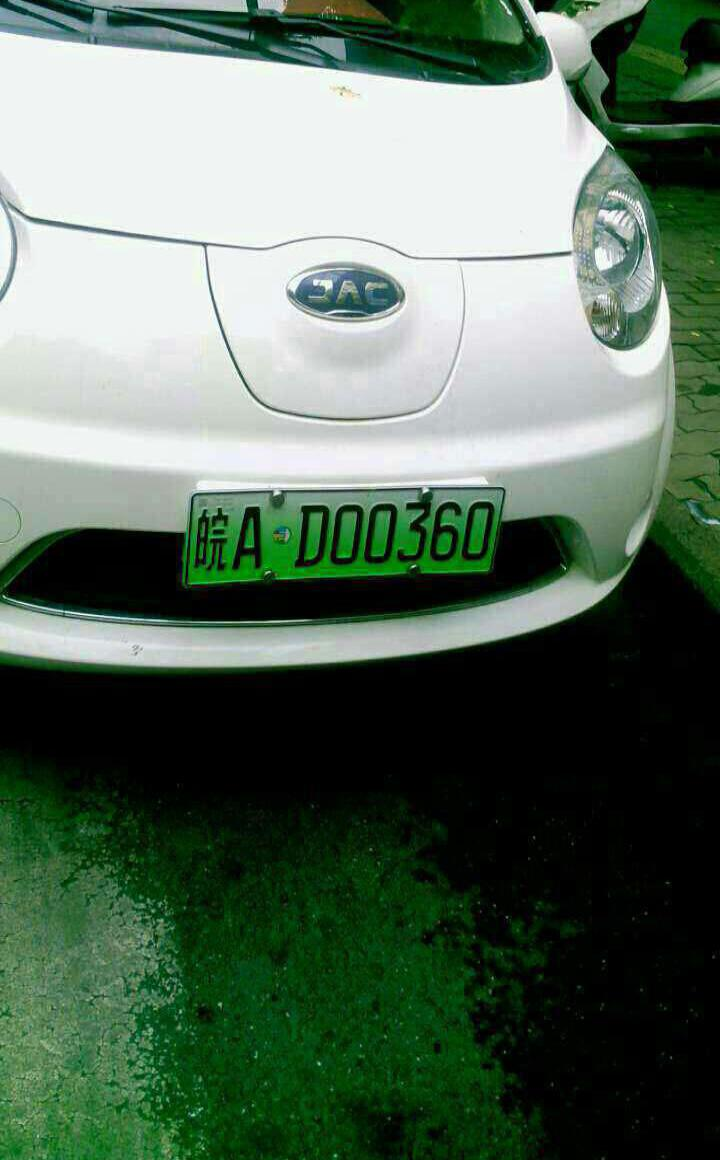car_id: (186, 490, 501, 584)
